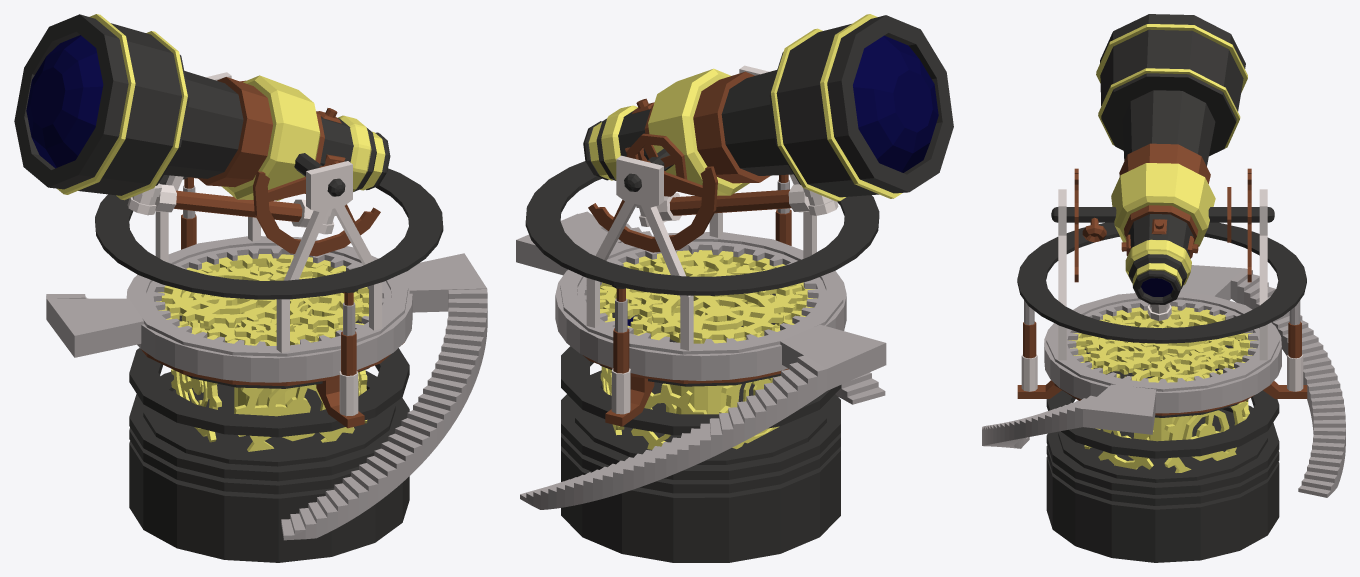
The model's file is telescope.glb.
3 renders of one model, left to right at view 1: azimuth 30°, elevation 25°; view 2: azimuth 150°, elevation 25°; view 3: azimuth 270°, elevation 25°, orthographic. The views are drawn at different scales.
Visible parts, largest first — view 1: telescope; view 2: telescope; view 3: telescope.
Boxes of the visible parts, <box> form: telescope: <box>14,14,487,562</box>; telescope: <box>516,14,953,562</box>; telescope: <box>982,14,1345,562</box>.
Size of the model in its own units: 22.25 by 26.39 by 20.27.
